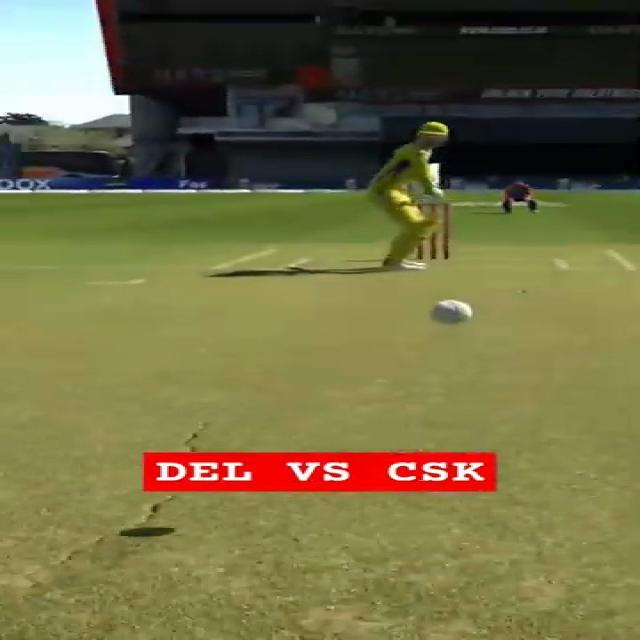ball: (421, 296, 478, 326)
